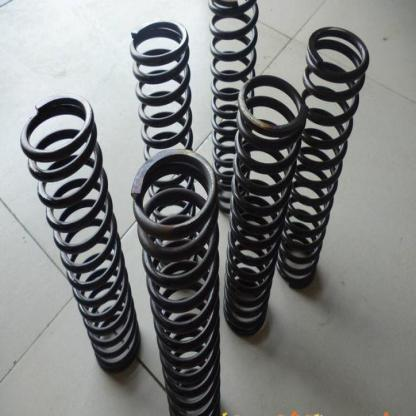FOD: (18, 90, 145, 378), (129, 147, 223, 415), (276, 23, 370, 287), (222, 69, 308, 338), (128, 16, 203, 287), (207, 0, 261, 217)
